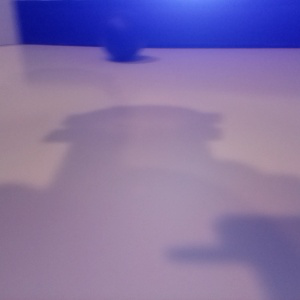dead_ball: (100, 14, 143, 59)
